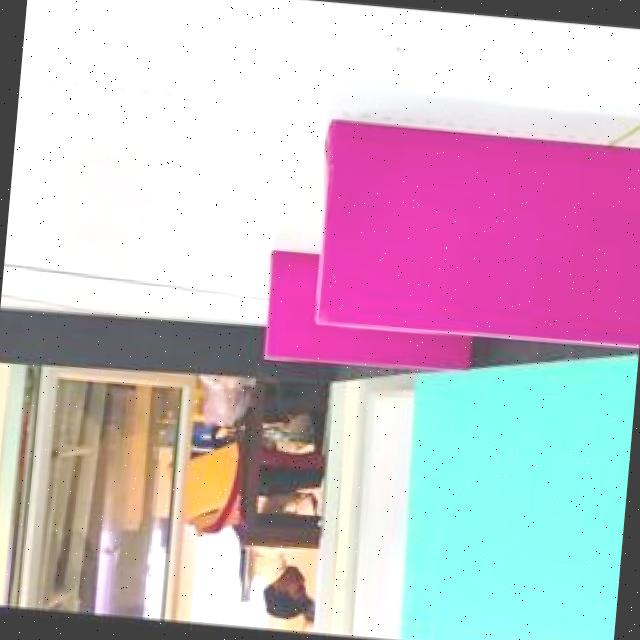xparking: (324, 123, 640, 330), (270, 255, 314, 362)
